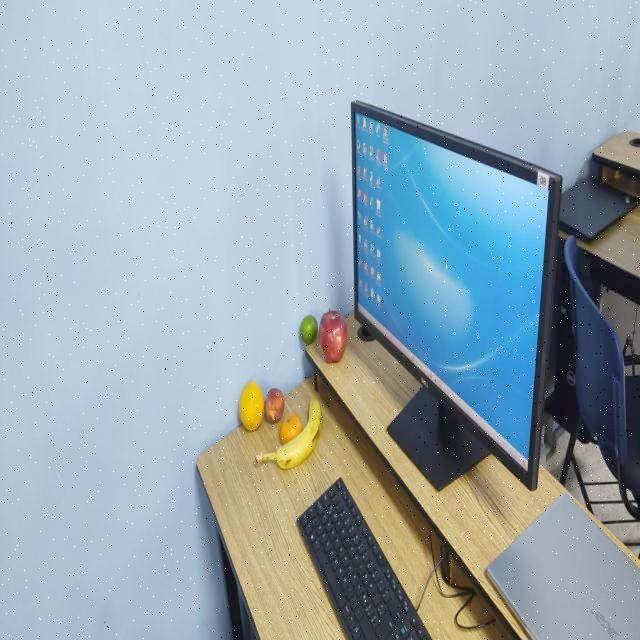Apel Merah: (316, 302, 351, 370)
Jeruk: (235, 374, 267, 436)
Jeruk Mandarin: (279, 408, 306, 447)
Lemon: (296, 307, 321, 348)
Persik: (262, 384, 288, 427)
Pisang: (252, 390, 325, 482)
